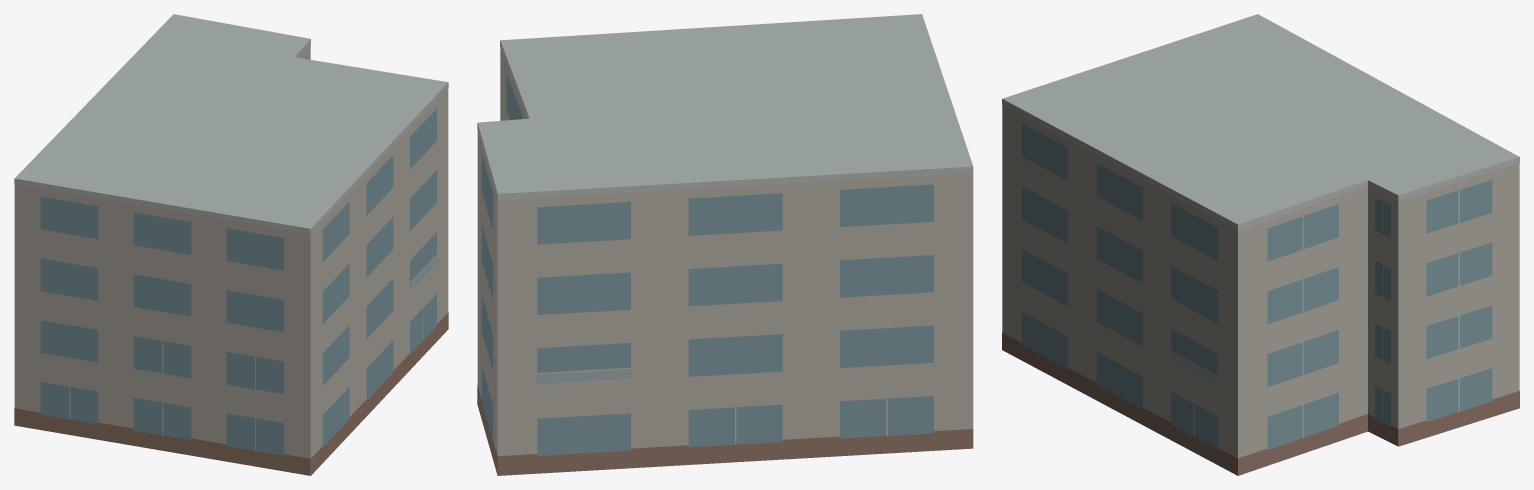
File: survey-upis-32683776.glb
3 renders of one model, left to right at view 1: azimuth 30°, elevation 25°; view 2: azimuth 150°, elevation 25°; view 3: azimuth 270°, elevation 25°, orthographic. The views are drawn at different scales.
Visible parts, largest first — view 1: survey-upis-32683776.tmp; view 2: survey-upis-32683776.tmp; view 3: survey-upis-32683776.tmp.
Part boxes in pixels (x1,y1,x2,y2): survey-upis-32683776.tmp: [14, 14, 448, 475]; survey-upis-32683776.tmp: [477, 14, 973, 475]; survey-upis-32683776.tmp: [1002, 14, 1519, 475].
Bounding box in the file's own units: 18.34 × 10.2 × 19.05.
